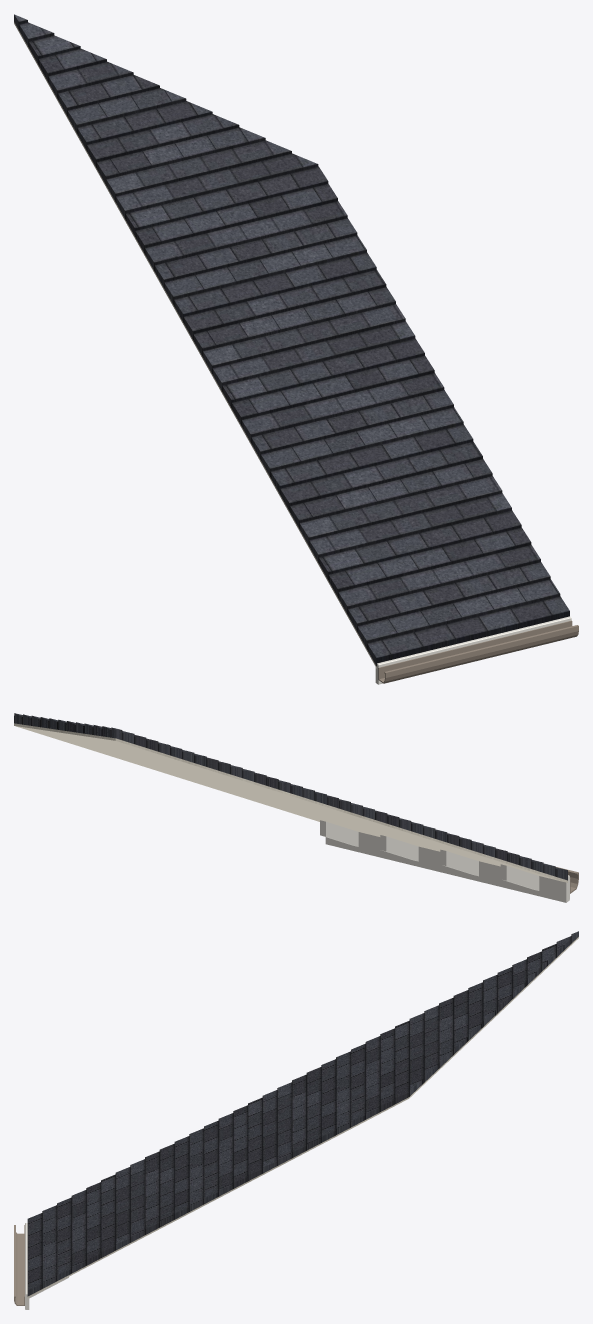
The model's file is roof_main_2.glb.
3 views of the same model, one above another, from view 1: azimuth 30°, elevation 25°; view 2: azimuth 150°, elevation 25°; view 3: azimuth 270°, elevation 25° (orthographic). The views are drawn at different scales.
Visible parts, largest first — view 1: roof_main_2_shingles, roof_main_2_gutter, roof_main_2_plaster, roof_main_2_trim; view 2: roof_main_2_plaster, roof_main_2_shingles, roof_main_2_trim; view 3: roof_main_2_shingles, roof_main_2_plaster, roof_main_2_gutter.
Part boxes in pixels (box(x1,y1,x2,y2)): roof_main_2_shingles: box(14, 14, 569, 666); roof_main_2_gutter: box(378, 620, 578, 683); roof_main_2_plaster: box(14, 22, 376, 668); roof_main_2_trim: box(375, 616, 571, 684); roof_main_2_plaster: box(14, 723, 567, 882); roof_main_2_shingles: box(14, 713, 567, 880); roof_main_2_trim: box(320, 820, 569, 902); roof_main_2_shingles: box(27, 931, 578, 1296); roof_main_2_plaster: box(27, 937, 578, 1297); roof_main_2_gutter: box(14, 1225, 24, 1305).
Bounding box in the file's own units: 2 × 3.99 × 6.66.
4 materials, 2 textured.
